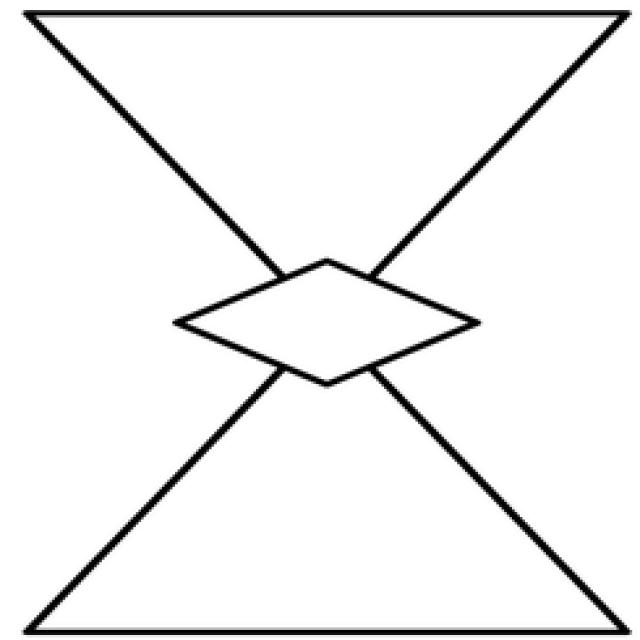Plug Valve: (24, 13, 630, 633)
